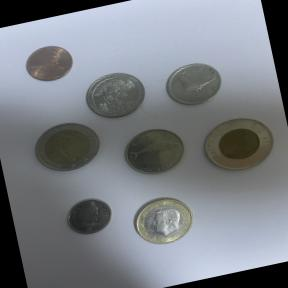coin: (192, 104, 288, 184), (118, 183, 210, 258), (24, 114, 108, 182), (112, 118, 194, 184), (76, 64, 152, 126), (13, 30, 86, 92), (56, 188, 122, 246)
